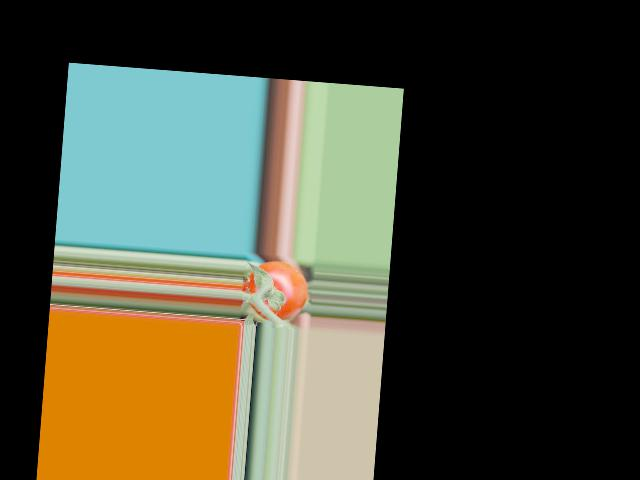tomato: (240, 258, 309, 323)
